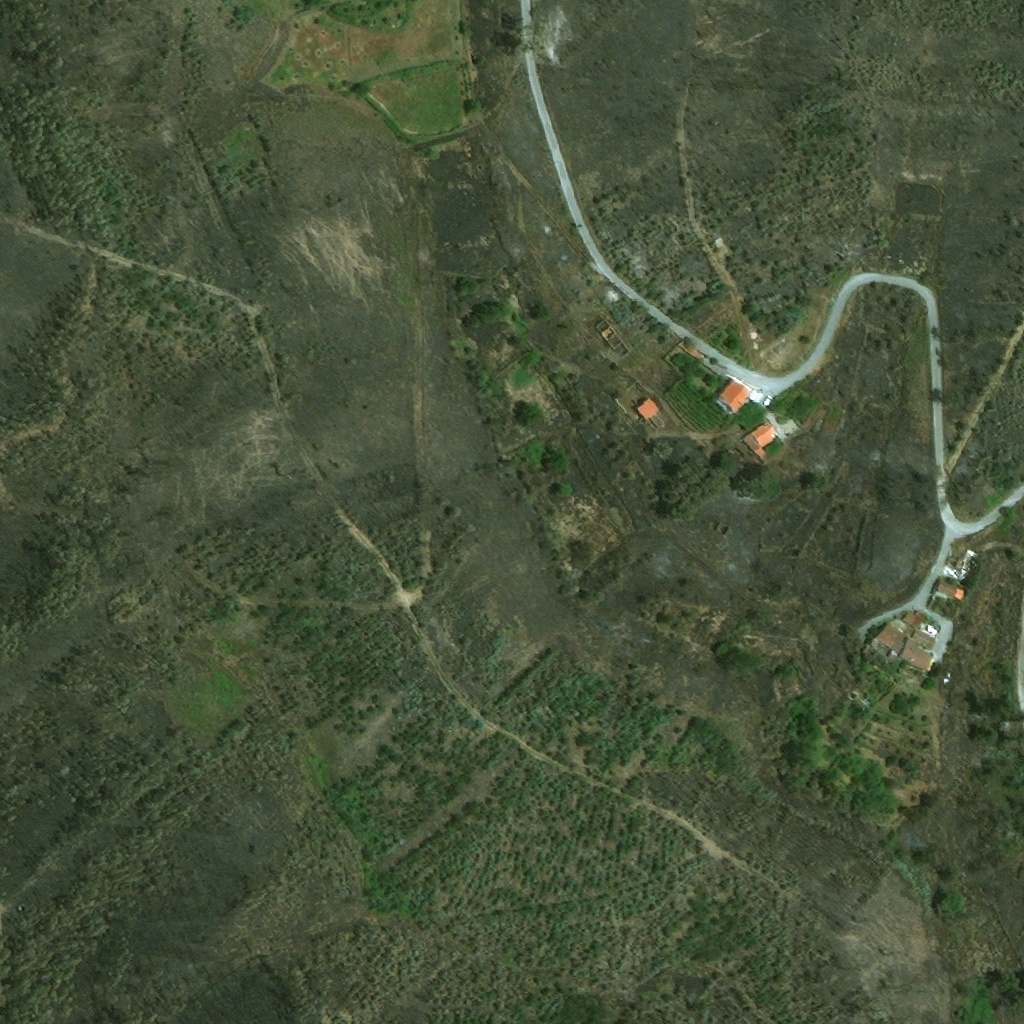0 no-damage: (899, 636, 936, 673), (956, 547, 986, 589), (718, 377, 752, 411), (741, 430, 771, 463), (861, 644, 896, 671), (751, 418, 783, 447), (935, 577, 967, 600), (876, 622, 904, 648), (636, 395, 662, 422), (913, 629, 937, 647), (918, 619, 940, 638), (902, 610, 921, 627), (933, 588, 955, 602), (946, 555, 964, 570), (887, 650, 900, 661)
